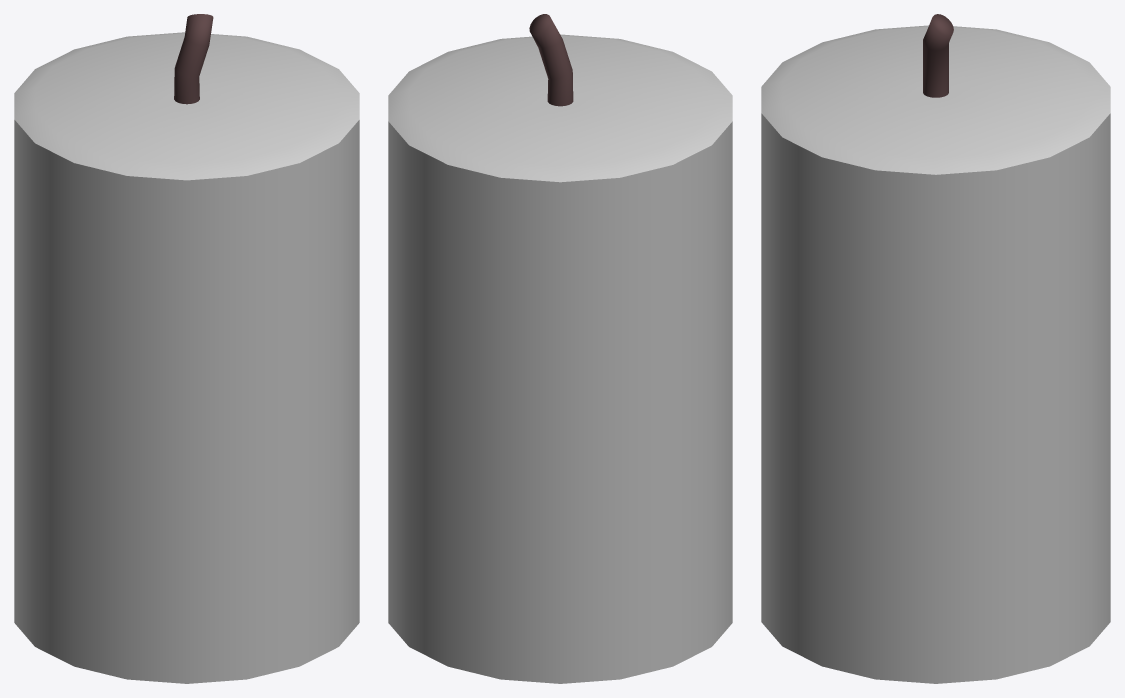
File: candle_02.FBX
The picture shows the model from 3 angles, left to right: view 1: azimuth 30°, elevation 25°; view 2: azimuth 150°, elevation 25°; view 3: azimuth 270°, elevation 25°; orthographic projection.
Parts seen in each view (by area): view 1: Cylinder007; view 2: Cylinder007; view 3: Cylinder007.
Part boxes in pixels (<box>): Cylinder007: <box>14,14,359,683</box>; Cylinder007: <box>388,14,732,683</box>; Cylinder007: <box>761,14,1110,683</box>.
Size of the model in its own units: 11.22 by 20.93 by 11.05.
